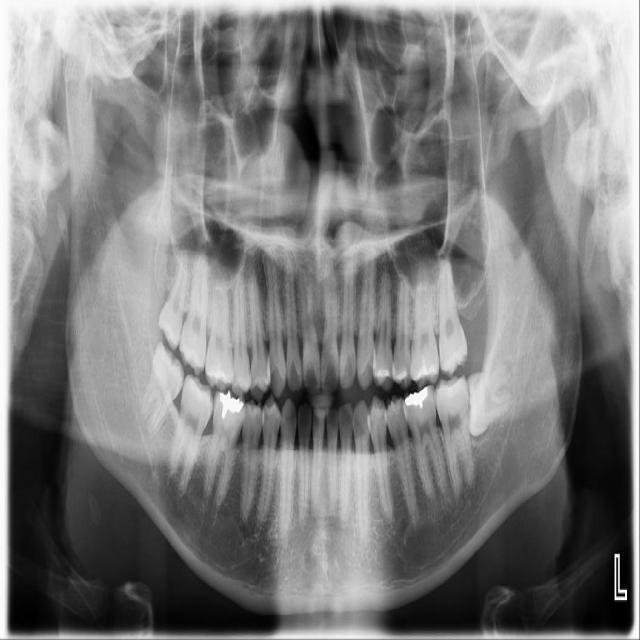Filling: (217, 387, 244, 420), (412, 355, 435, 380), (404, 387, 428, 408), (206, 362, 230, 382), (389, 368, 410, 382), (375, 365, 392, 381)
Periapical lesion: (239, 507, 267, 536)
impacted tooth: (138, 340, 186, 444), (468, 360, 514, 438)
